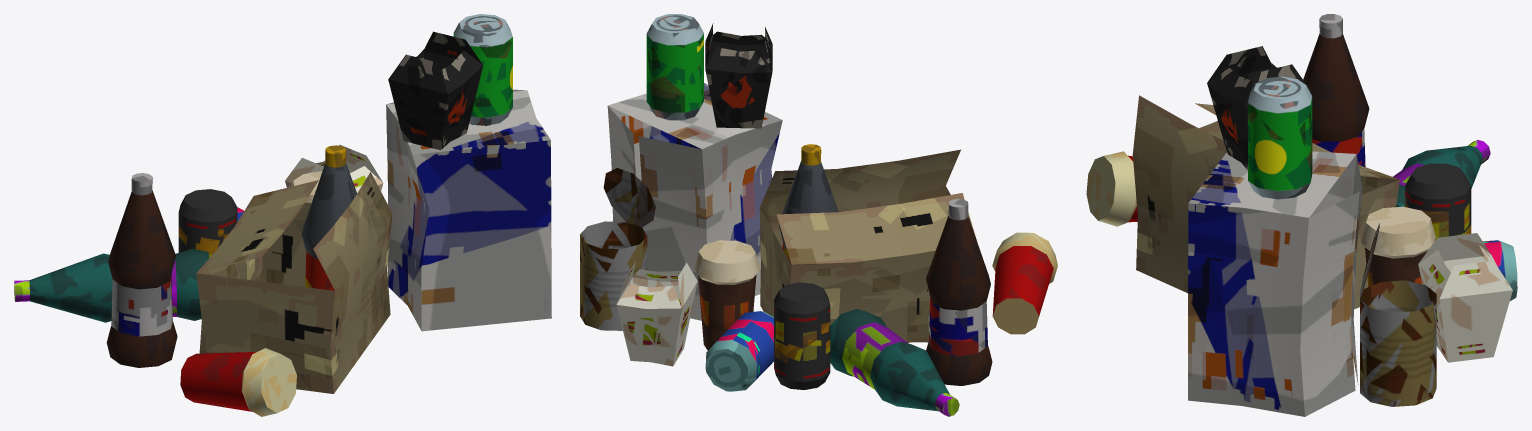
File: lowpoly_stylized_litter_free.glb
3 renders of one model, left to right at view 1: azimuth 30°, elevation 25°; view 2: azimuth 150°, elevation 25°; view 3: azimuth 270°, elevation 25°, orthographic. The views are drawn at different scales.
Parts seen in each view (by area): view 1: Cube, Cube.001, Cylinder.001, Cube.003, Cylinder.009, Cylinder.008, Cylinder.006, Cylinder.004, Cylinder, Cube.002; view 2: Cube.001, Cube, Cylinder.001, Cylinder.002, Cylinder.008, Cube.002, Cube.003, Cylinder.006, Cylinder, Cylinder.009, Cylinder.003, Cylinder.005 (+1 smaller); view 3: Cube, Cube.001, Cylinder.002, Cube.002, Cylinder.006, Cylinder.001, Cube.003, Cylinder.003, Cylinder, Cylinder.009, Cylinder.008, Cylinder.005.
Part boxes in pixels (x1,y1,x2,y2): Cube: (386, 89, 551, 331); Cube.001: (196, 172, 392, 393); Cylinder.001: (106, 173, 177, 367); Cube.003: (388, 31, 483, 150); Cylinder.009: (180, 348, 296, 416); Cylinder.008: (14, 248, 209, 322); Cylinder.006: (453, 14, 512, 125); Cylinder.004: (301, 145, 356, 290); Cylinder: (178, 189, 237, 257); Cube.002: (285, 144, 383, 192); Cube.001: (759, 149, 976, 342); Cube: (607, 83, 782, 320); Cylinder.001: (926, 199, 992, 385); Cylinder.002: (580, 168, 655, 330); Cylinder.008: (830, 309, 959, 416); Cube.002: (616, 261, 697, 366); Cube.003: (705, 23, 772, 128); Cylinder.006: (646, 14, 703, 120); Cylinder: (774, 282, 830, 389); Cylinder.009: (992, 232, 1057, 334); Cylinder.003: (694, 240, 760, 350); Cylinder.005: (705, 311, 773, 391); Cube: (1188, 151, 1362, 416); Cube.001: (1132, 95, 1399, 309); Cylinder.002: (1359, 223, 1436, 406); Cube.002: (1418, 233, 1512, 362); Cylinder.006: (1248, 76, 1312, 199); Cylinder.001: (1303, 14, 1369, 166); Cube.003: (1207, 46, 1311, 169); Cylinder.003: (1360, 206, 1435, 286); Cylinder: (1405, 163, 1471, 241); Cylinder.009: (1086, 151, 1137, 226); Cylinder.008: (1393, 139, 1490, 207); Cylinder.005: (1483, 240, 1517, 300).
Size of the model in its own units: 1.92 by 1.14 by 1.48.
Materials: 1 (1 with a texture image).
